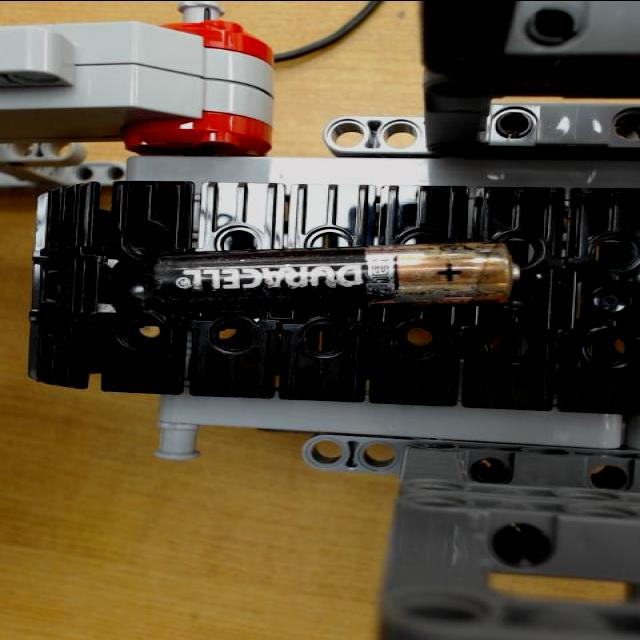AAA: (154, 237, 520, 314)
